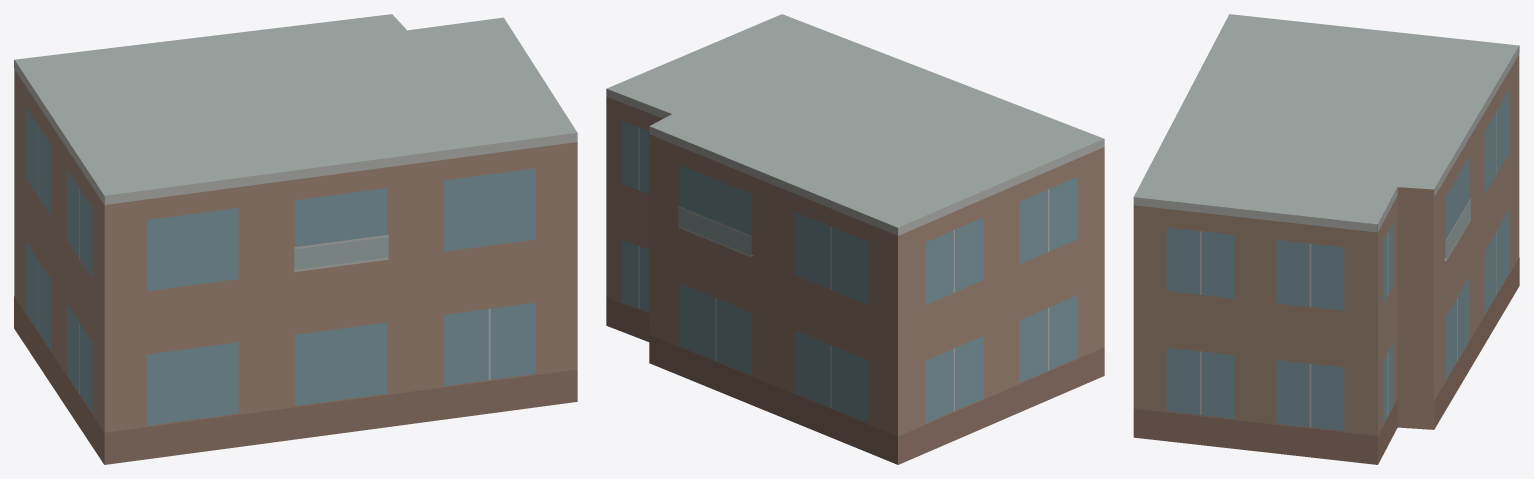
File: survey-upis-32515101.glb
3 renders of one model, left to right at view 1: azimuth 30°, elevation 25°; view 2: azimuth 150°, elevation 25°; view 3: azimuth 270°, elevation 25°, orthographic. The views are drawn at different scales.
Parts seen in each view (by area): view 1: survey-upis-32515101.tmp; view 2: survey-upis-32515101.tmp; view 3: survey-upis-32515101.tmp.
Part boxes in pixels (x1,y1,x2,y2): survey-upis-32515101.tmp: (14,14,577,464); survey-upis-32515101.tmp: (606,14,1104,464); survey-upis-32515101.tmp: (1133,14,1519,464).
Bounding box in the file's own units: 13.53 × 7.2 × 10.48.
